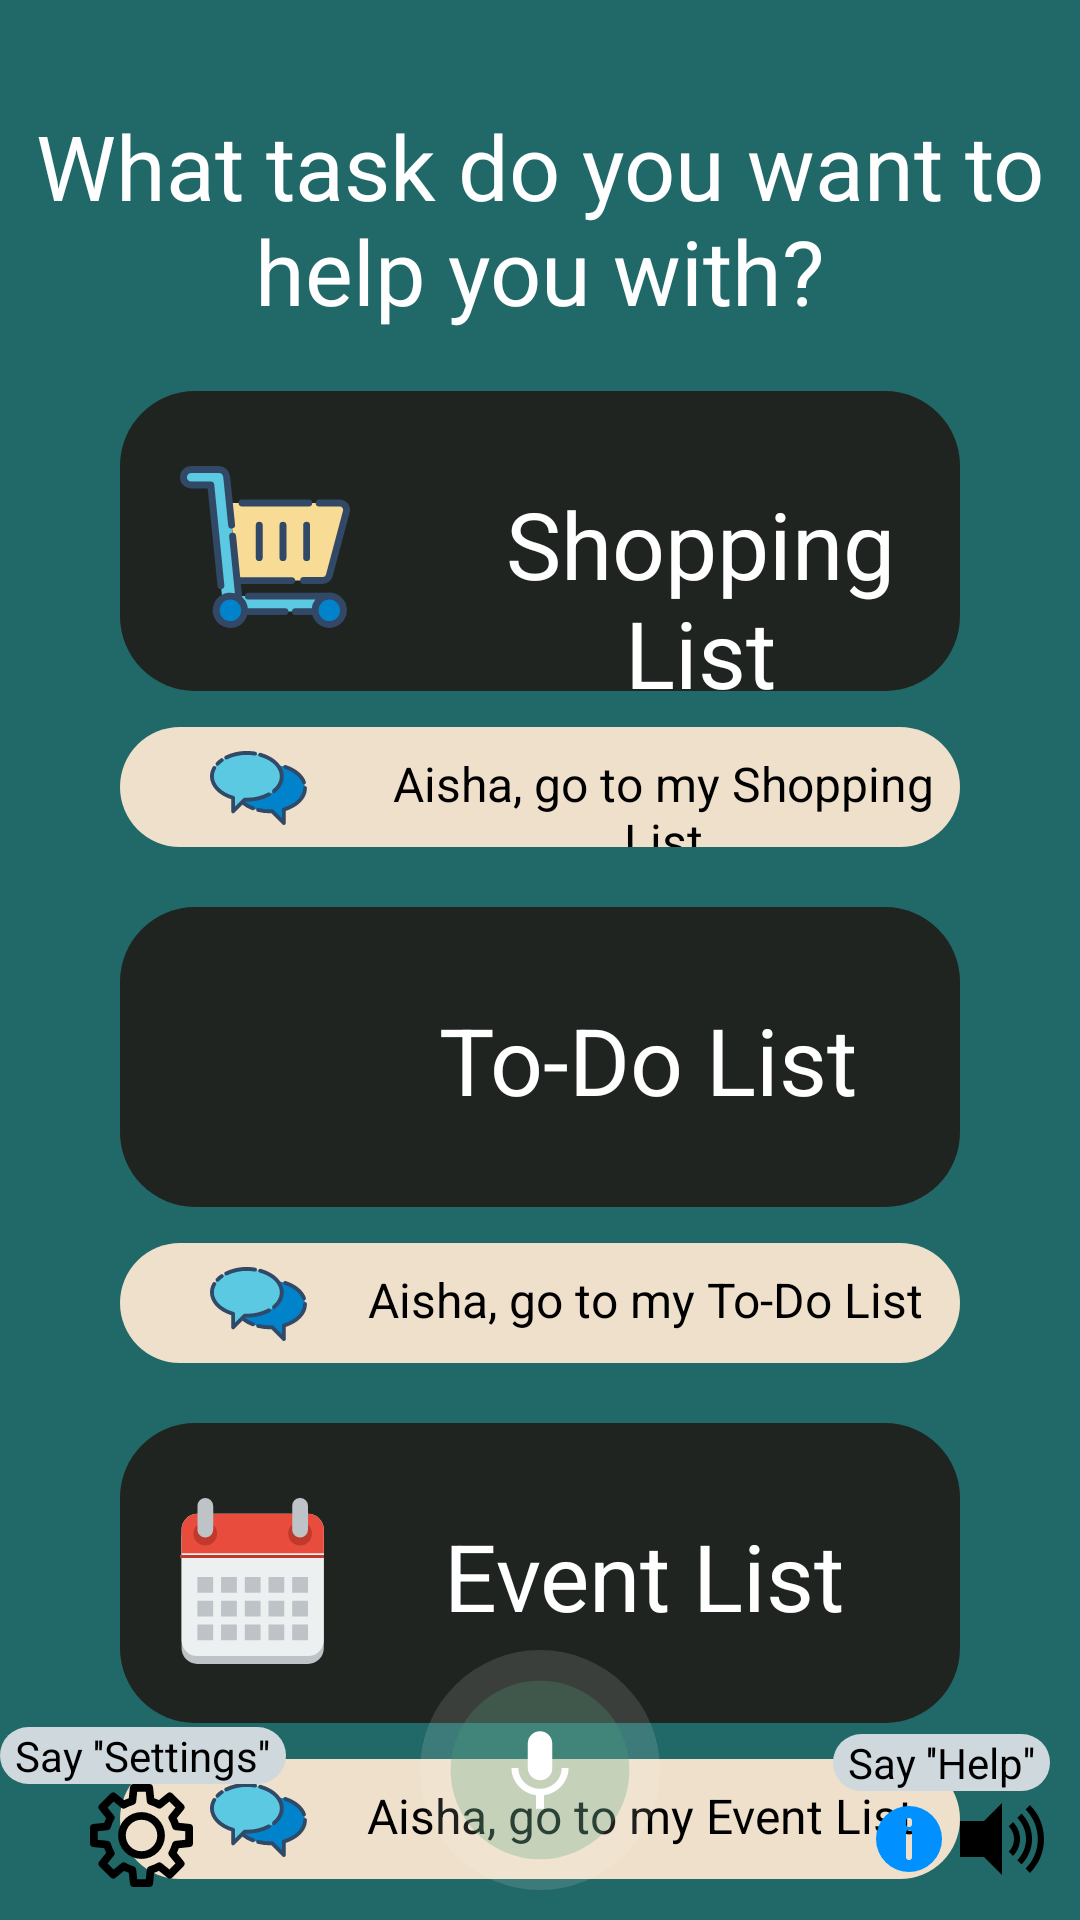

Point at icon controls on the screen. Image size 1080 × 1920, points as [x,y].
calen: [252,1581]
info: [908,1837]
micro: [540,1770]
speak: [258,788], [258,1304], [258,1820]
speaker: [999,1834]
